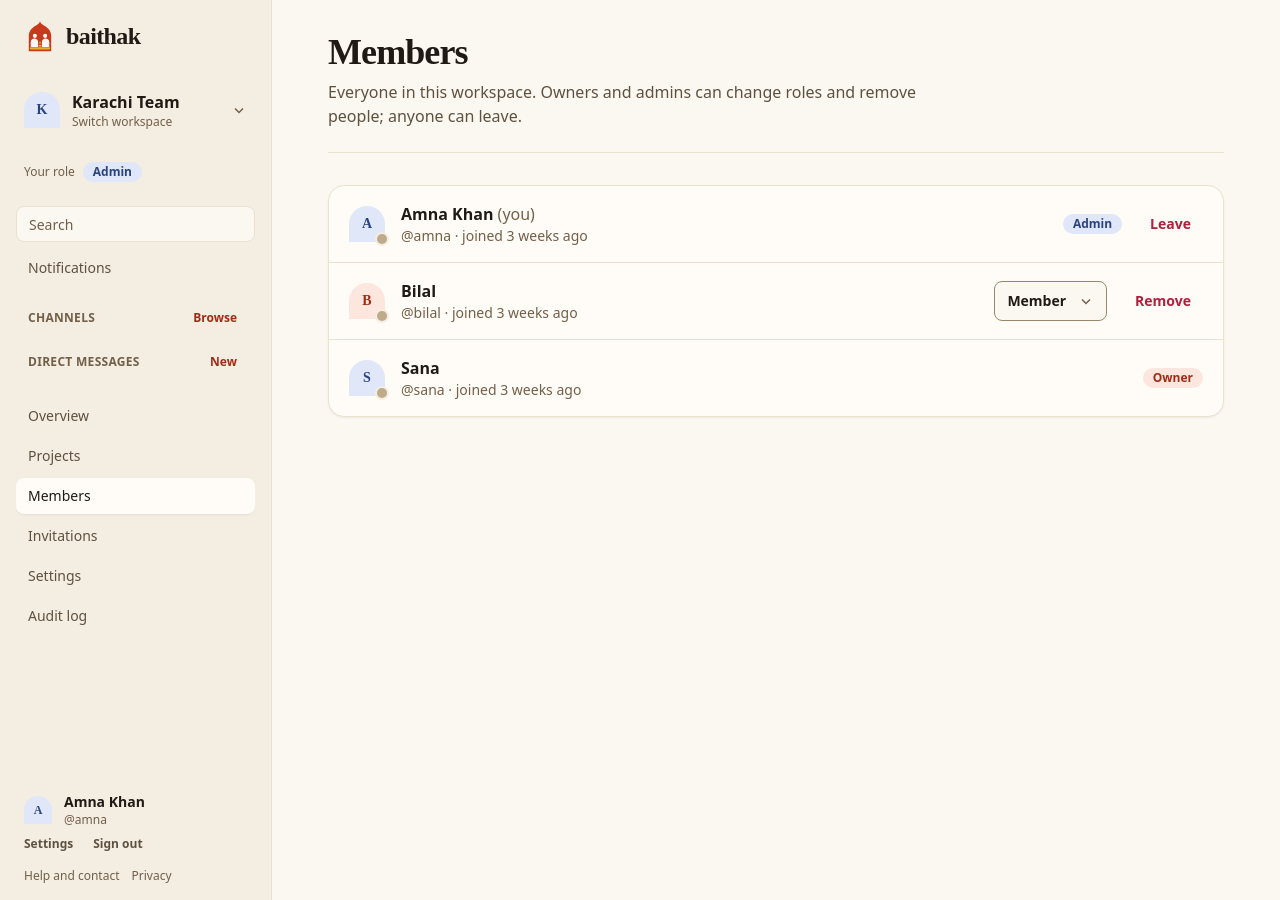
members › the API's refusal is shown on the row
Click the dropdown named "Role of Bilal". click: (1051, 301)
box: [994,281,1107,321]
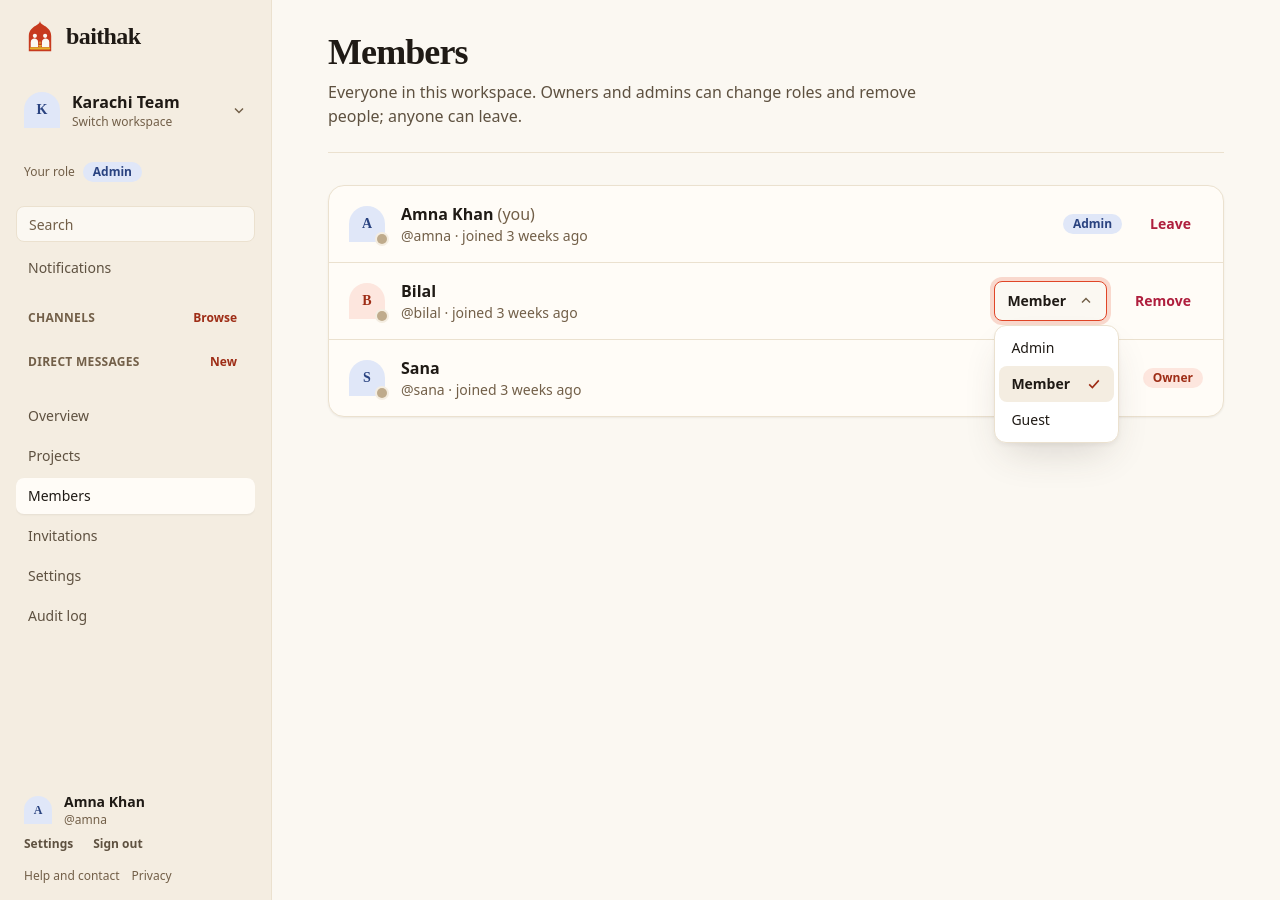
Click the option "Guest". click: (1031, 420)
box: [1011,410,1050,429]
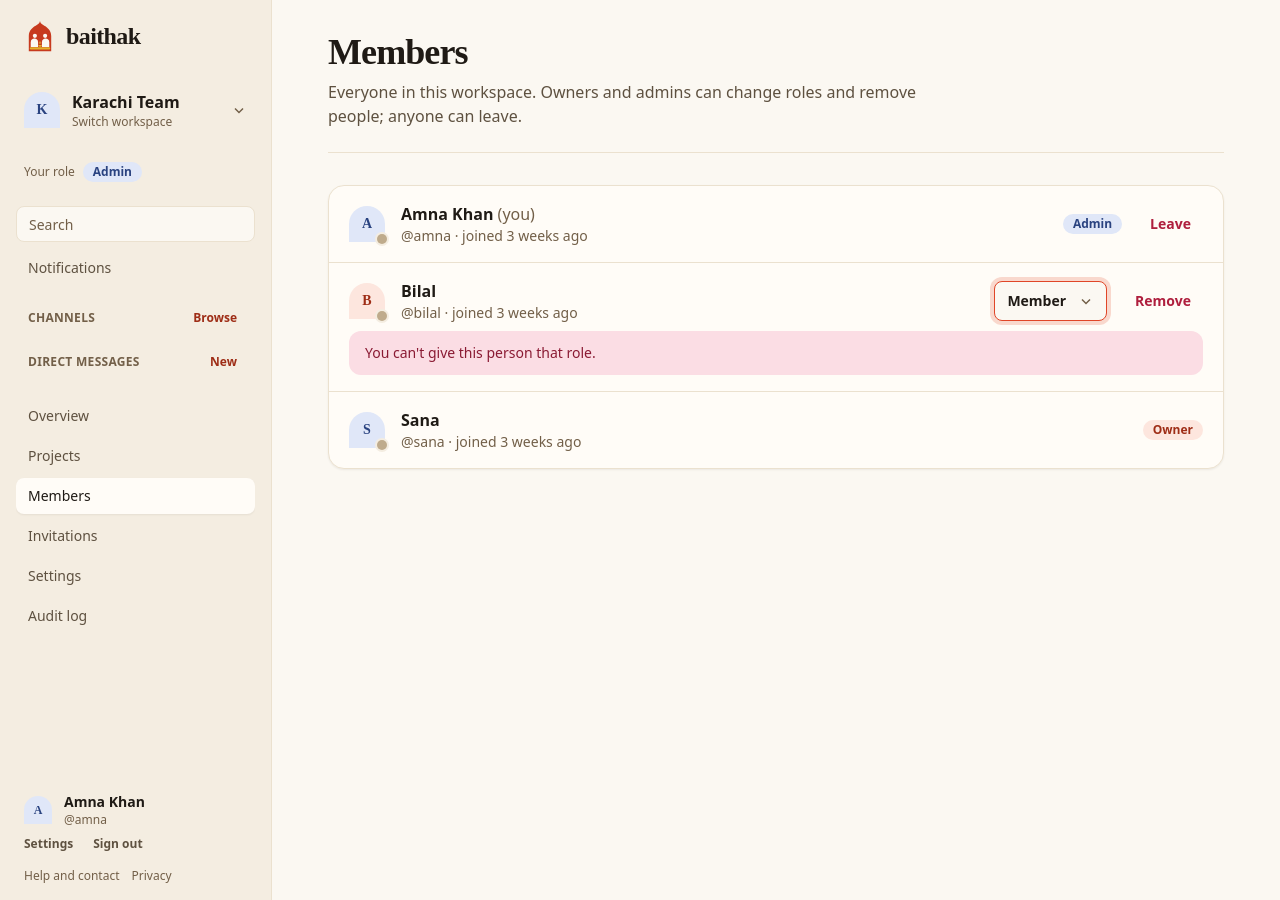
Expected: the message reads "You can't give this person that role.", [365,343,596,362]
